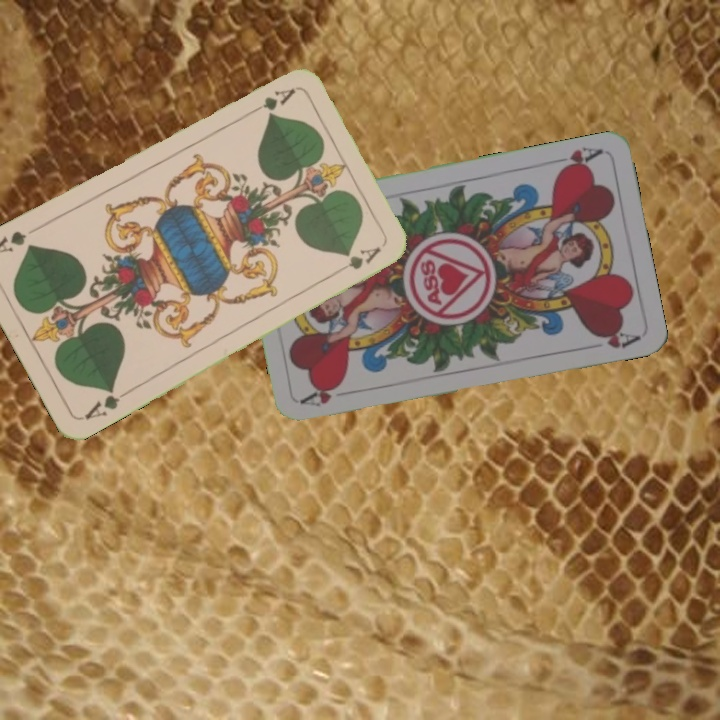GA: (80, 383, 133, 423), (242, 84, 298, 117)
HA: (547, 143, 606, 176), (298, 380, 344, 409)
